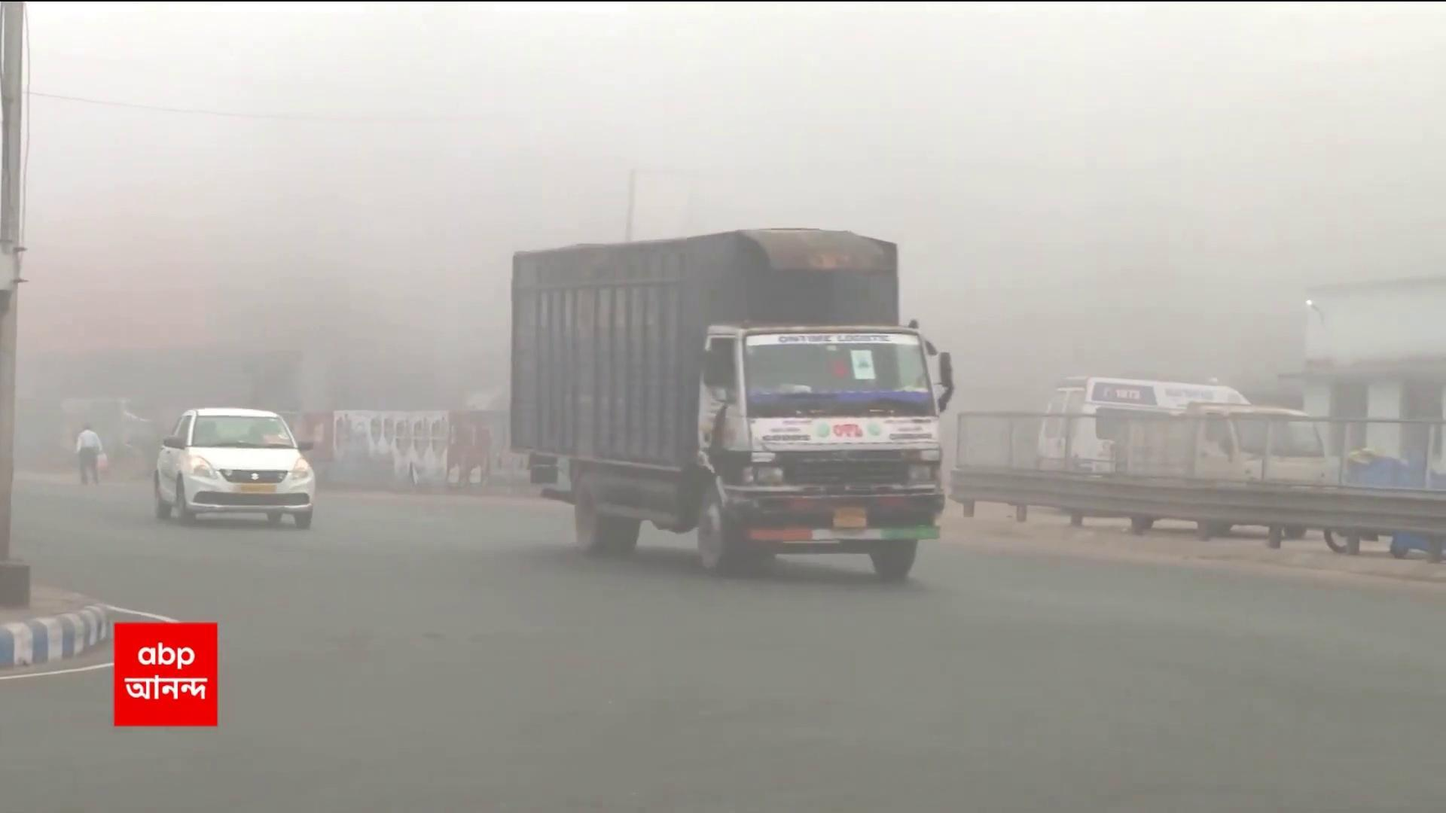Car: (146, 405, 318, 535)
Truck: (509, 224, 953, 586)
